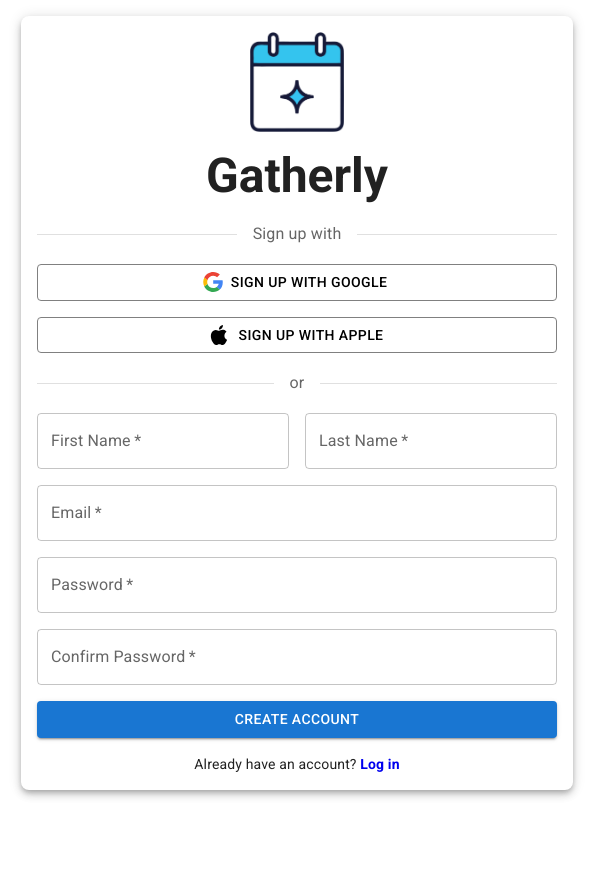
Test: Signup Flow Test › displays error signup message from API
The width and height of the screenshot is (595, 880).
Type "Test" into the field labelled "First Name *" at coordinates (163, 441), box [37,413,289,469]
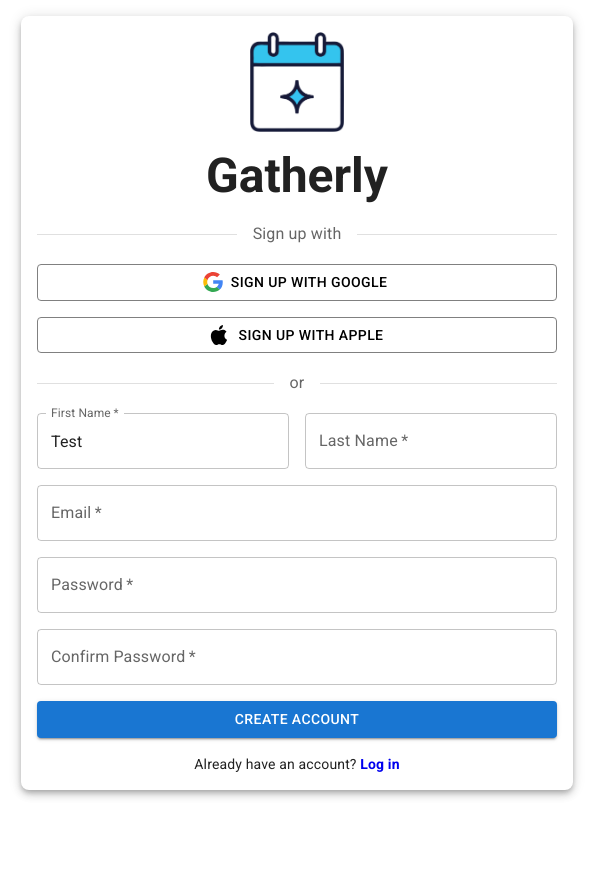
Type "User" into the field labelled "Last Name *" at coordinates (431, 441), box [305,413,557,469]
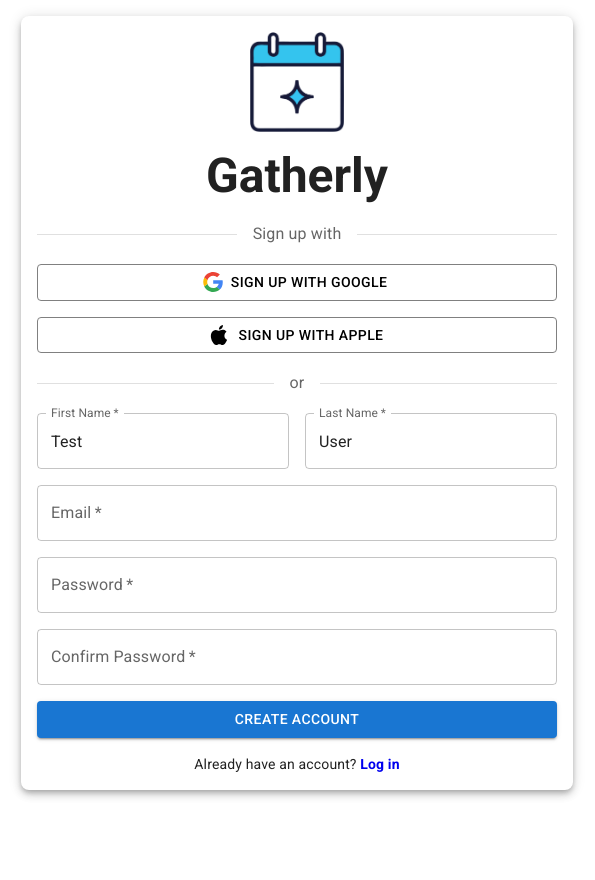
Type "test@example.com" into the field labelled "Email *" at coordinates (297, 513), box [37,485,557,541]
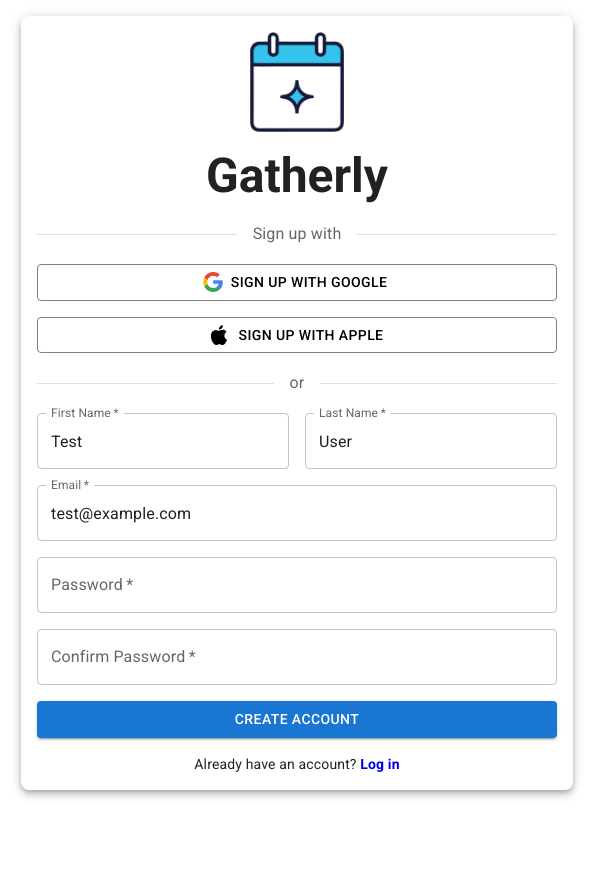
Type "Test1234" into the password field labelled "Password *" at coordinates (297, 585), box [37,557,557,613]
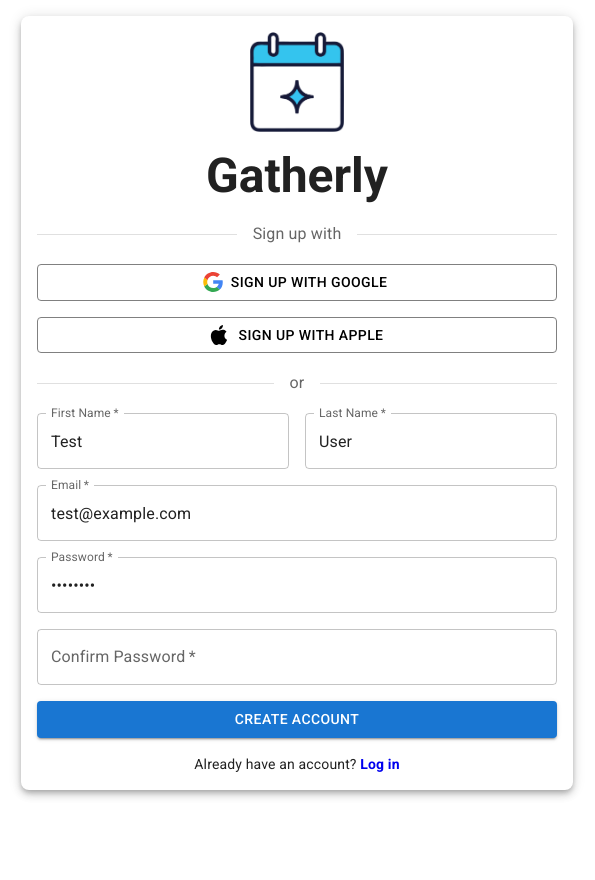
Type "Test1234" into the password field labelled "Confirm Password *" at coordinates (297, 657), box [37,629,557,685]
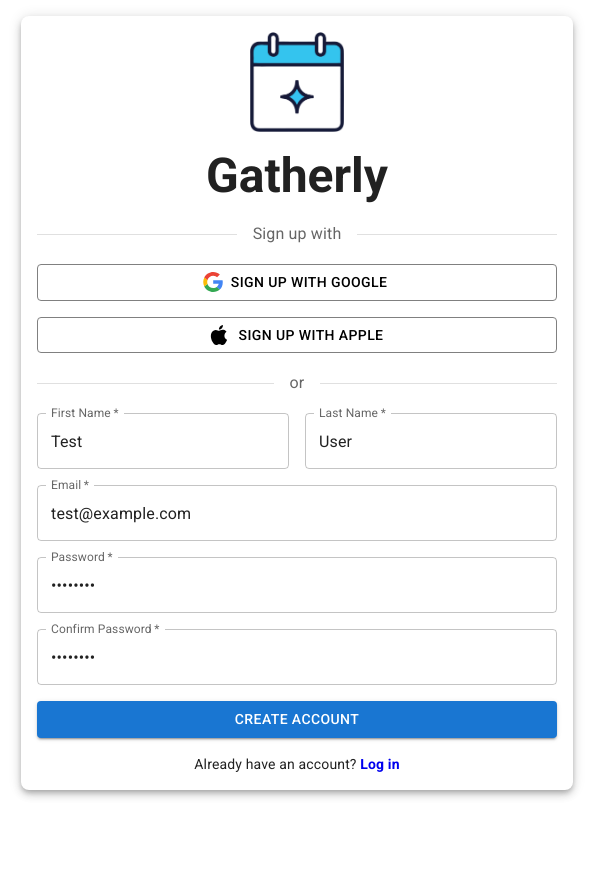
Click the button "Create Account" at coordinates (297, 719), box [37,701,557,738]
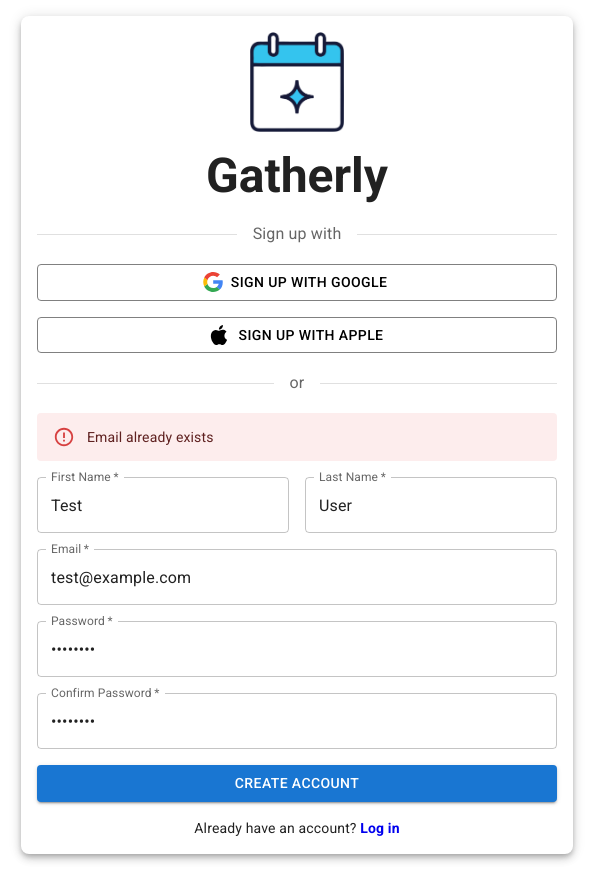
Now the message reads "Email already exists", box [87,429,214,445]
